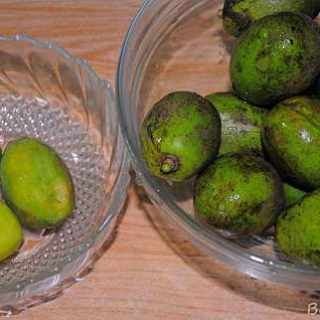coc: (195, 152, 283, 238), (139, 92, 219, 178), (1, 138, 74, 231)
